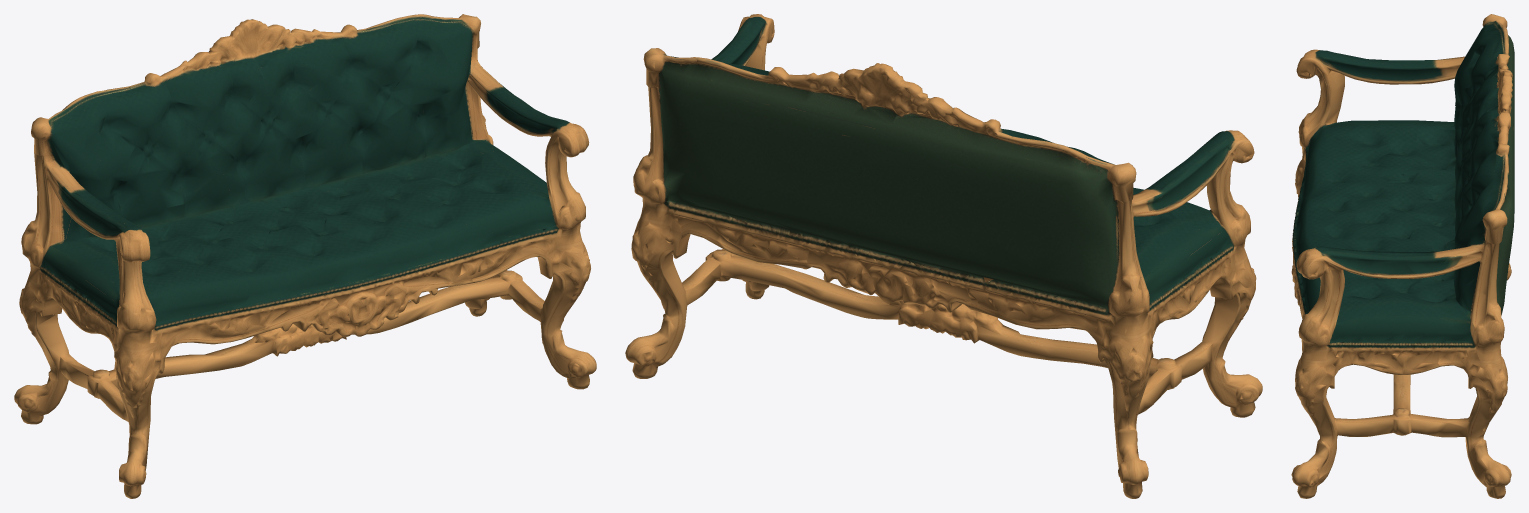
File: bench.glb
The picture shows the model from 3 angles, left to right: view 1: azimuth 30°, elevation 25°; view 2: azimuth 150°, elevation 25°; view 3: azimuth 270°, elevation 25°; orthographic projection. The views are drawn at different scales.
Size of the model in its own units: 1.91 by 1.32 by 0.8311.
1 material, 1 textured.
